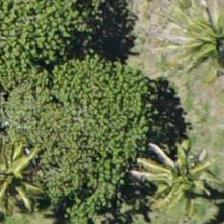coconut_tree: (133, 136, 223, 223), (171, 0, 223, 88), (0, 134, 47, 223)
